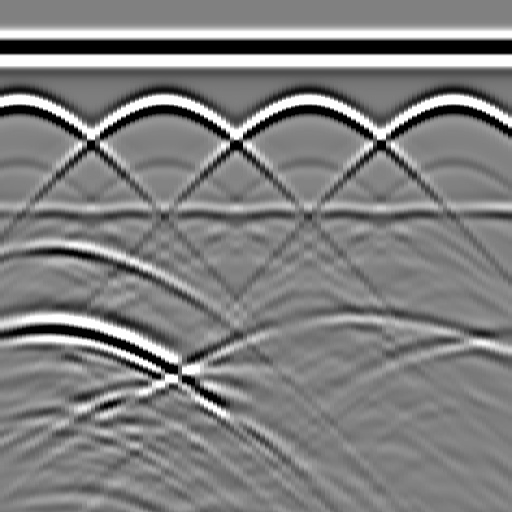grout_surface: (1, 198, 512, 228)
rebar: (142, 83, 182, 123), (286, 83, 326, 123), (430, 83, 470, 123)
rock_surface: (1, 317, 511, 396)
water_void: (22, 221, 82, 261)
